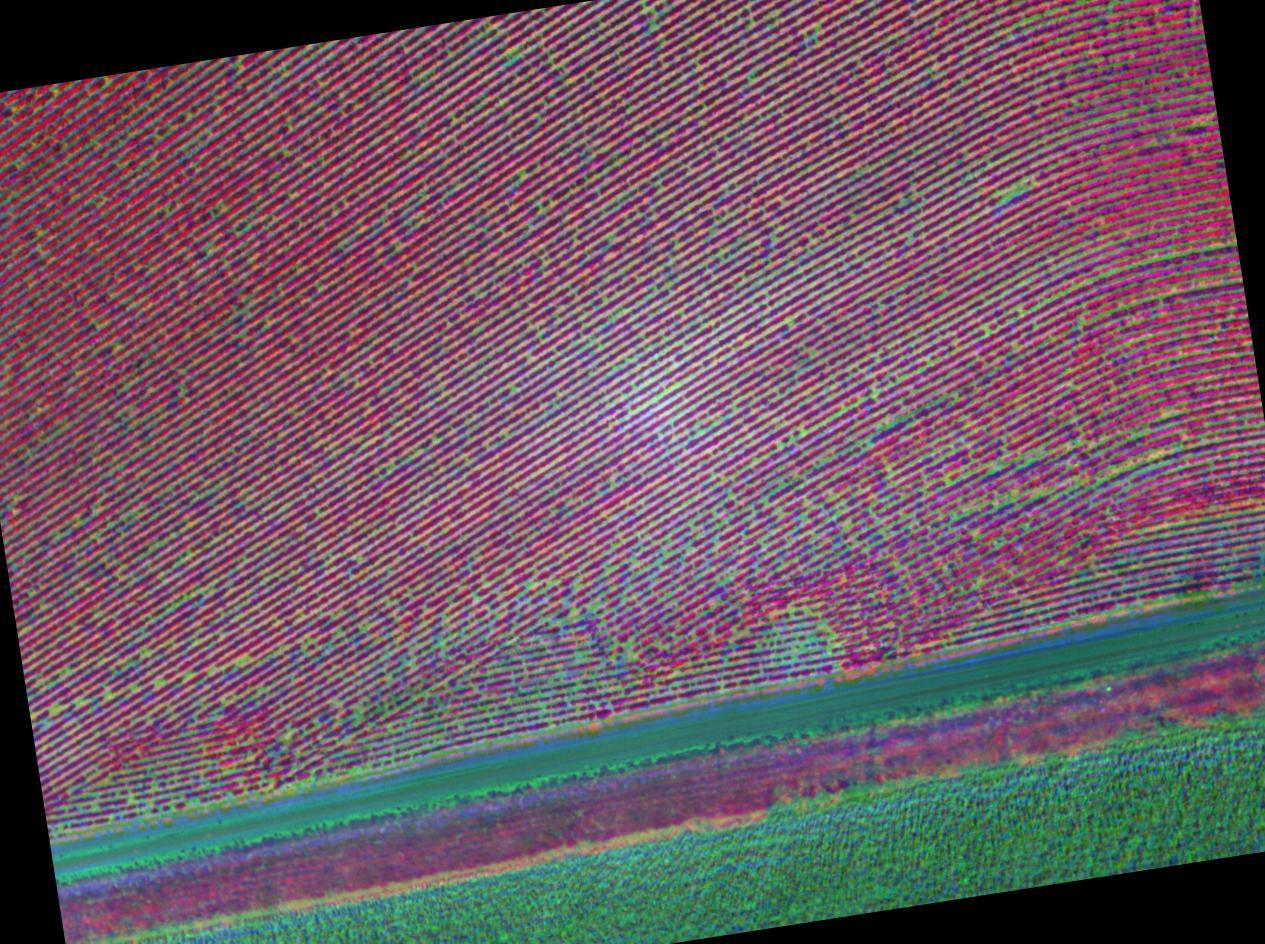dc: (577, 653, 582, 658), (240, 659, 245, 664), (591, 608, 595, 612), (156, 681, 160, 685), (334, 700, 338, 704), (146, 651, 149, 656), (129, 512, 133, 515), (509, 51, 513, 54), (407, 719, 411, 722)
